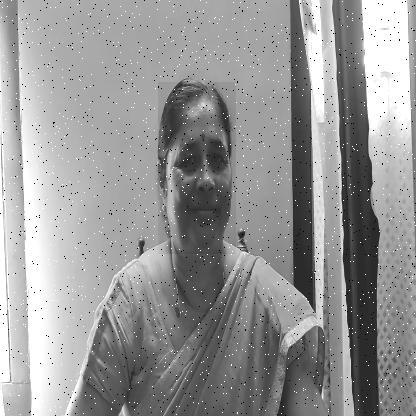Normal: (158, 82, 236, 254)
